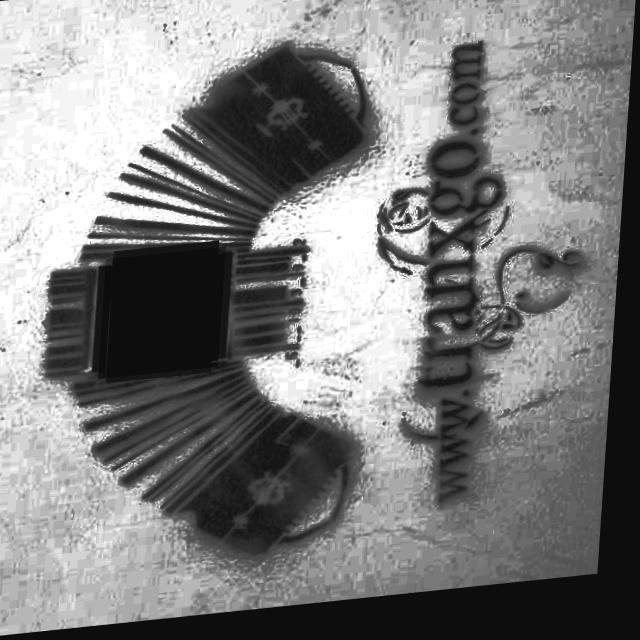qr_code: (104, 251, 230, 380)
